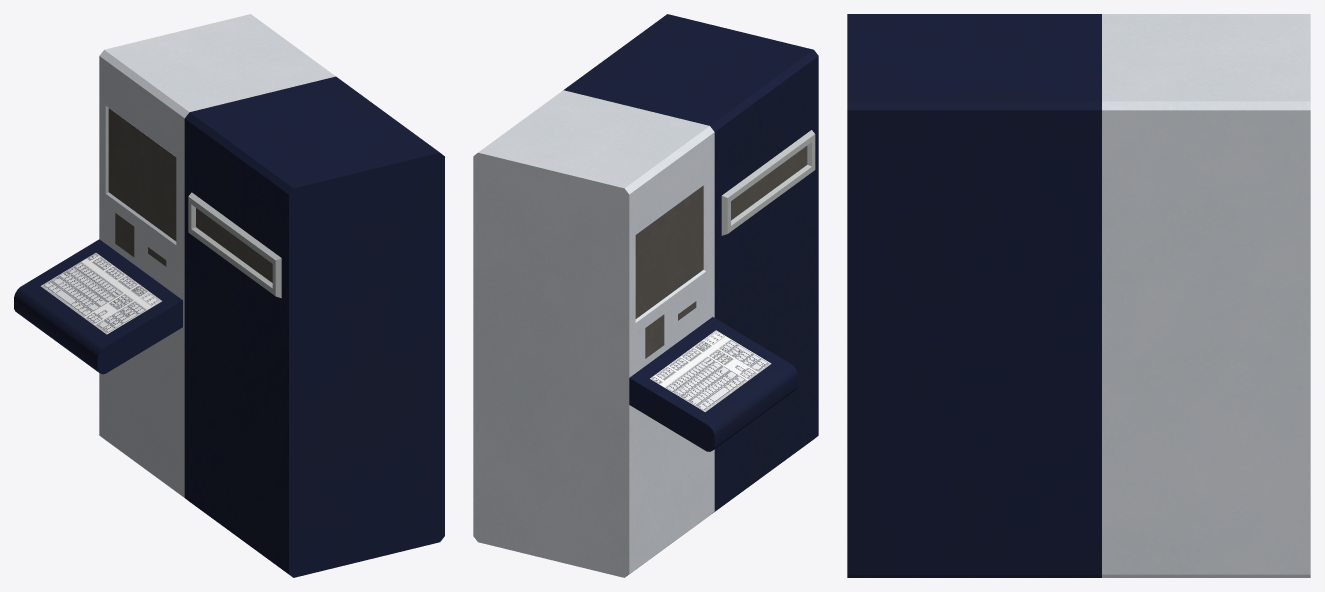
The model's file is kiosk.fbx.
3 views of the same model, side by side, from view 1: azimuth 30°, elevation 25°; view 2: azimuth 150°, elevation 25°; view 3: azimuth 270°, elevation 25° (orthographic). The views are drawn at different scales.
Parts seen in each view (by area): view 1: Kiosk; view 2: Kiosk; view 3: Kiosk.
Part boxes in pixels (x1,y1,x2,y2): Kiosk: (14,14,444,577); Kiosk: (473,14,818,577); Kiosk: (847,14,1310,577).
Size of the model in its own units: 1.3 by 2.01 by 1.77.
2 materials, 2 textured.
